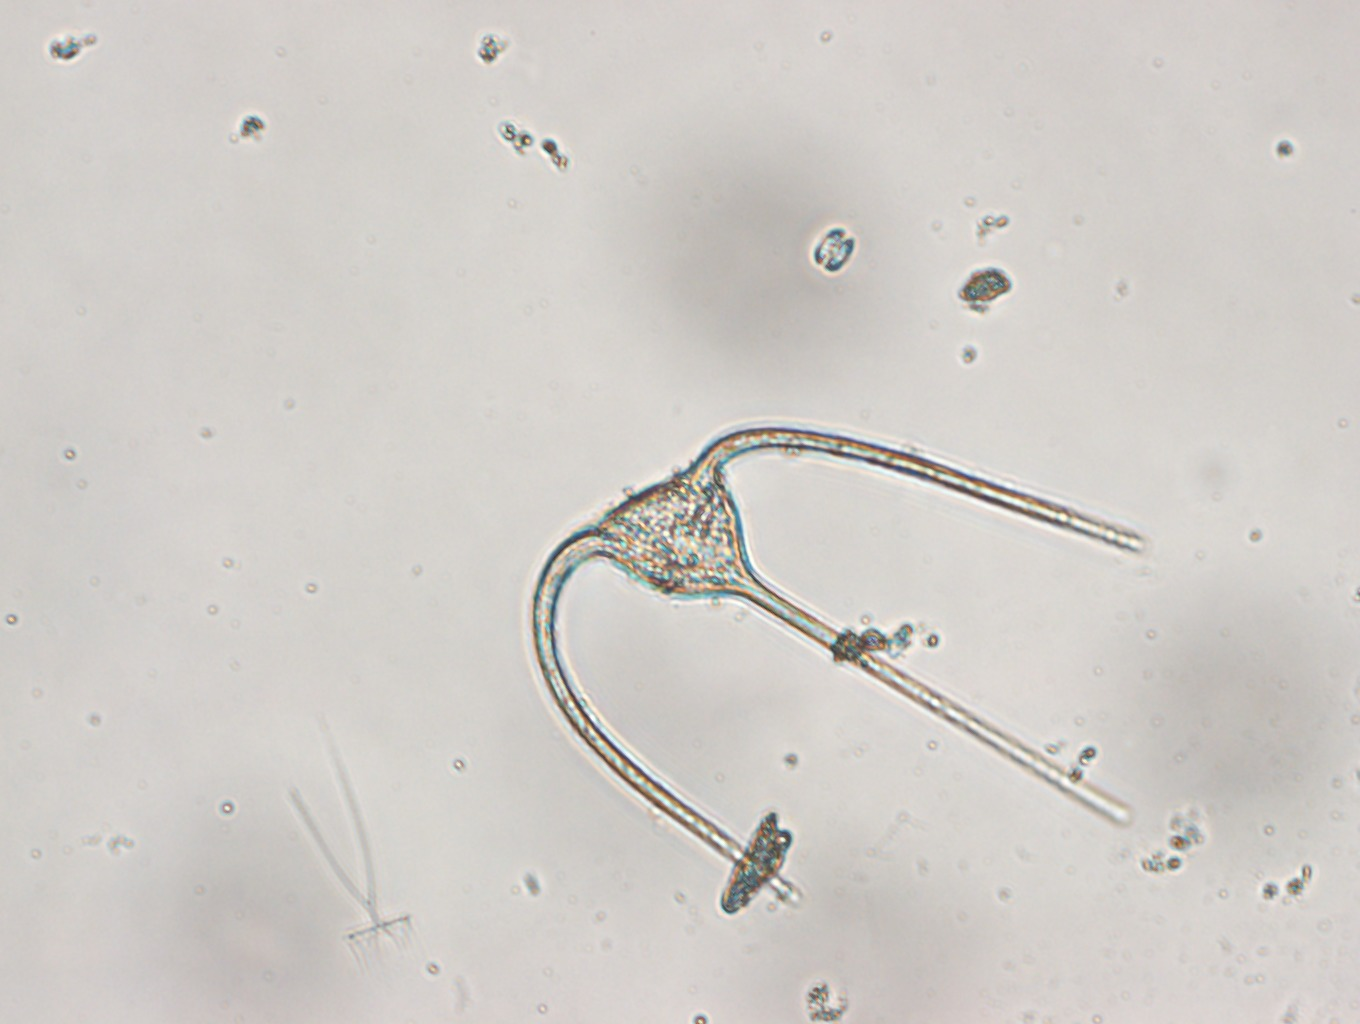ceratium trichoceros: (534, 422, 1163, 906)
